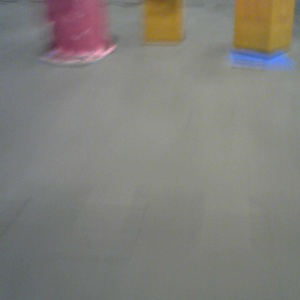middle: (40, 1, 118, 65)
